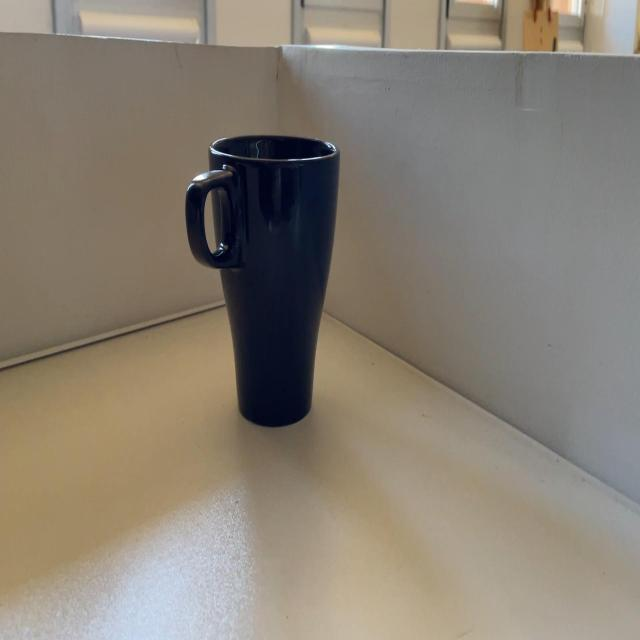cup: (184, 131, 342, 425)
